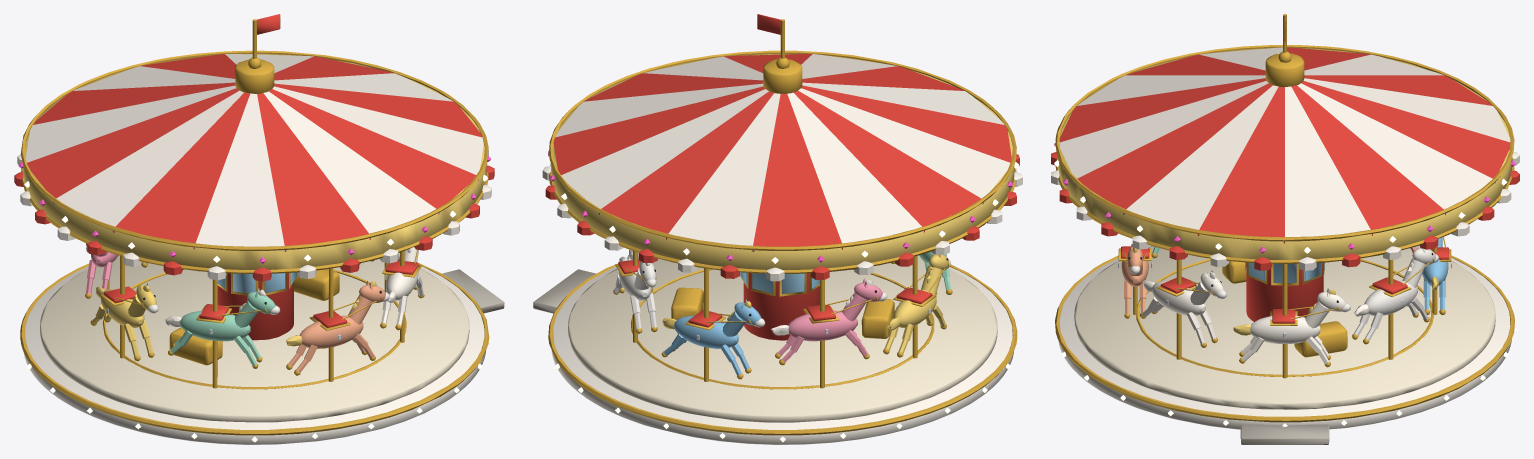
Rendered from carousel.glb.
The picture shows the model from 3 angles, left to right: view 1: azimuth 30°, elevation 25°; view 2: azimuth 150°, elevation 25°; view 3: azimuth 270°, elevation 25°; orthographic projection.
Visible parts, largest first — view 1: carousel_top.002, carousel.002; view 2: carousel_top.002, carousel.002; view 3: carousel_top.002, carousel.002.
Boxes of the visible parts, x1,y1,x2,y2 form: carousel_top.002: [14, 14, 494, 422]; carousel.002: [18, 255, 504, 444]; carousel_top.002: [542, 14, 1022, 422]; carousel.002: [533, 255, 1018, 444]; carousel_top.002: [1051, 14, 1519, 409]; carousel.002: [1053, 245, 1516, 444].
Bounding box in the file's own units: 8.88 × 6.4 × 8.45.
1 material, 1 textured.
